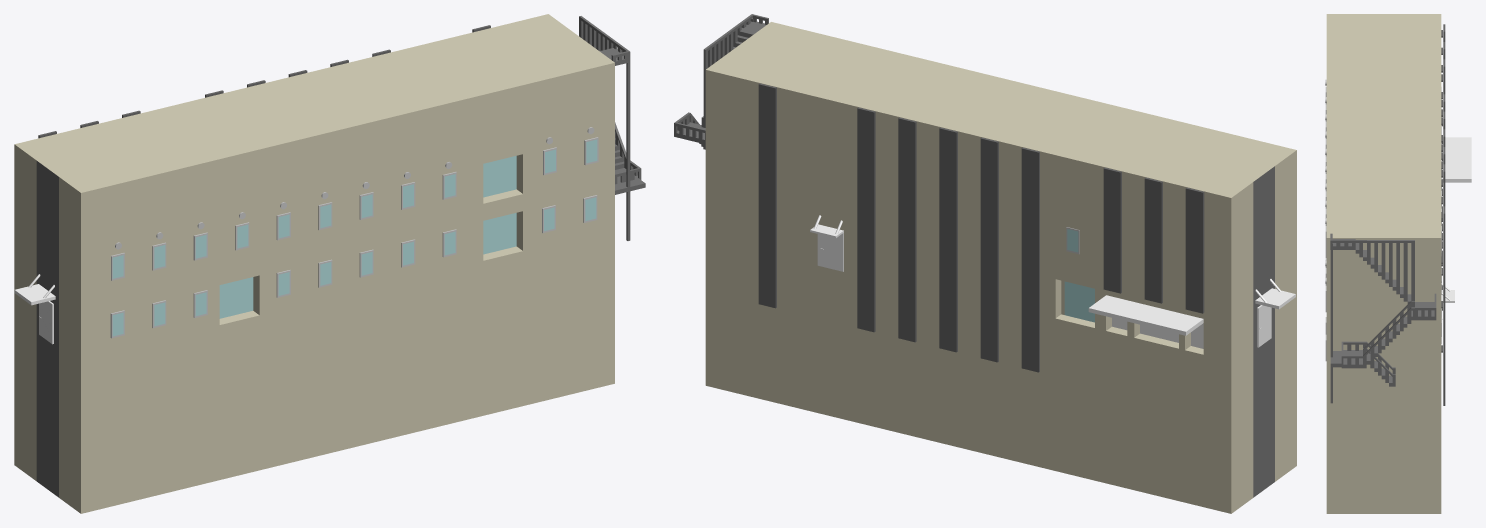
File: ClubBuilding.fbx
The picture shows the model from 3 angles, left to right: view 1: azimuth 30°, elevation 25°; view 2: azimuth 150°, elevation 25°; view 3: azimuth 270°, elevation 25°; orthographic projection. The views are drawn at different scales.
Visible parts, largest first — view 1: ClubBuildings, Window_club, Window_club.001, Window_club.002, emergency stairs.001, emergency stairs.003, Window_club.003, Window_club.004; view 2: ClubBuildings, Wall_club.001, Wall_club.002, Wall_club, club_roof.001, emergency stairs.003, club_door; view 3: ClubBuildings, emergency stairs.003, club_roof.001, emergency stairs.006, emergency stairs.005, Wall_club, Wall_club.001, emergency stairs, emergency stairs.004, emergency stairs.001, Wall_club.002, emergency stairs.002 (+1 smaller).
Part boxes in pixels (x1,y1,x2,y2): ClubBuildings: (14, 14, 614, 513); Window_club: (111, 172, 456, 280); Window_club.001: (276, 229, 456, 297); Window_club.002: (110, 290, 207, 338); emergency stairs.001: (626, 62, 630, 240); emergency stairs.003: (579, 16, 617, 52); Window_club.003: (543, 137, 598, 175); Window_club.004: (542, 195, 597, 233); ClubBuildings: (705, 22, 1296, 513); Wall_club.001: (857, 107, 1039, 372); Wall_club.002: (1103, 167, 1204, 313); Wall_club: (758, 83, 776, 308); club_roof.001: (1088, 295, 1203, 335); emergency stairs.003: (703, 23, 755, 127); club_door: (817, 233, 843, 271); ClubBuildings: (1326, 14, 1441, 513); emergency stairs.003: (1352, 239, 1414, 307); club_roof.001: (1442, 137, 1471, 182); emergency stairs.006: (1363, 301, 1414, 368); emergency stairs.005: (1330, 341, 1362, 368); Wall_club: (1441, 206, 1445, 405); Wall_club.001: (1441, 94, 1445, 310); emergency stairs: (1363, 341, 1395, 386); emergency stairs.004: (1415, 293, 1436, 320); emergency stairs.001: (1330, 243, 1332, 403); Wall_club.002: (1441, 24, 1445, 161); emergency stairs.002: (1330, 233, 1351, 249).
Bounding box in the file's own units: 6815 × 3582 × 1695.
